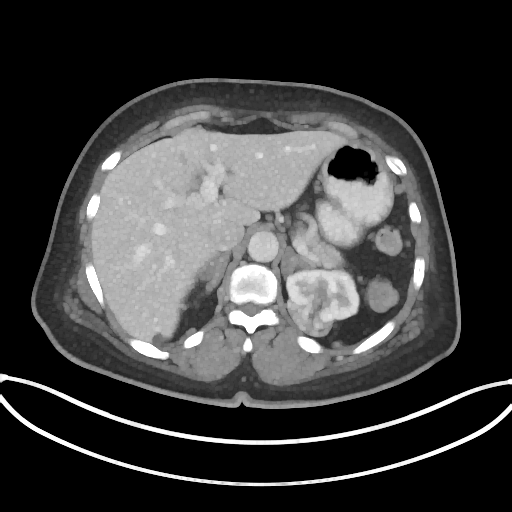Lesion: (287, 295, 333, 339)
